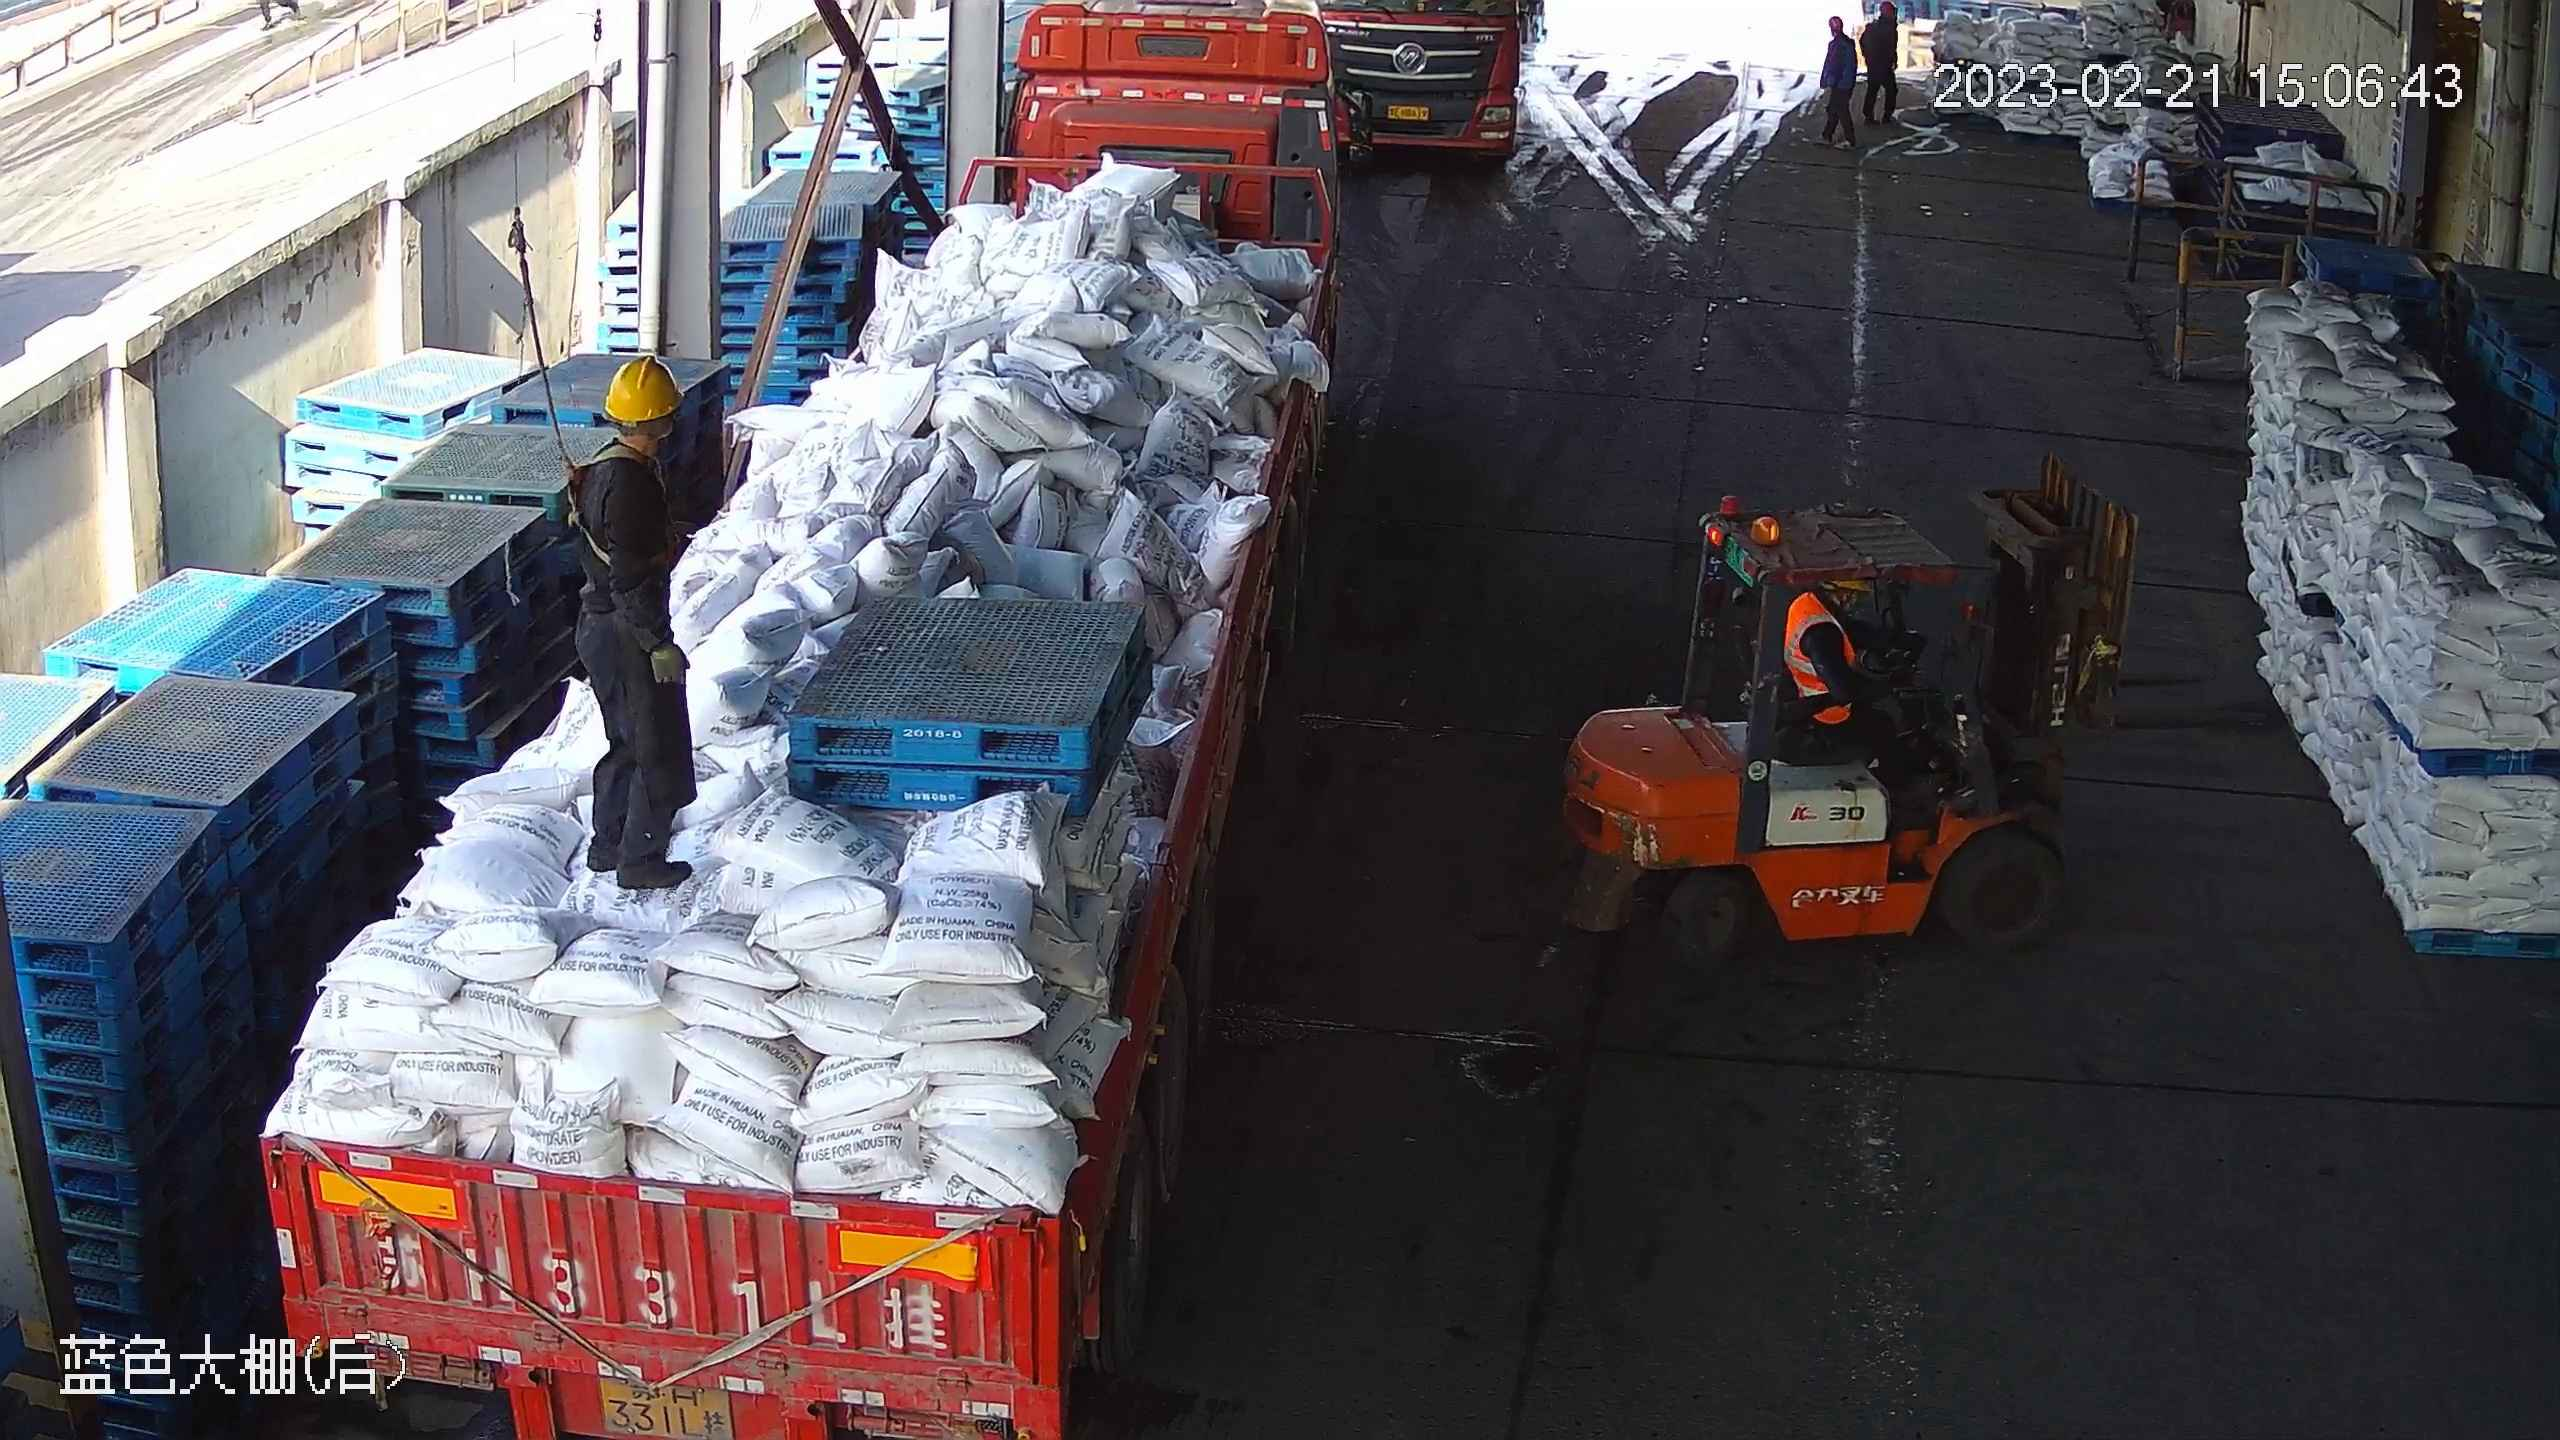belt: (566, 434, 667, 567)
helmet: (605, 356, 686, 421)
people: (569, 358, 701, 892), (1780, 581, 1912, 785)
truck: (256, 1, 1376, 1440), (1317, 1, 1519, 151)
